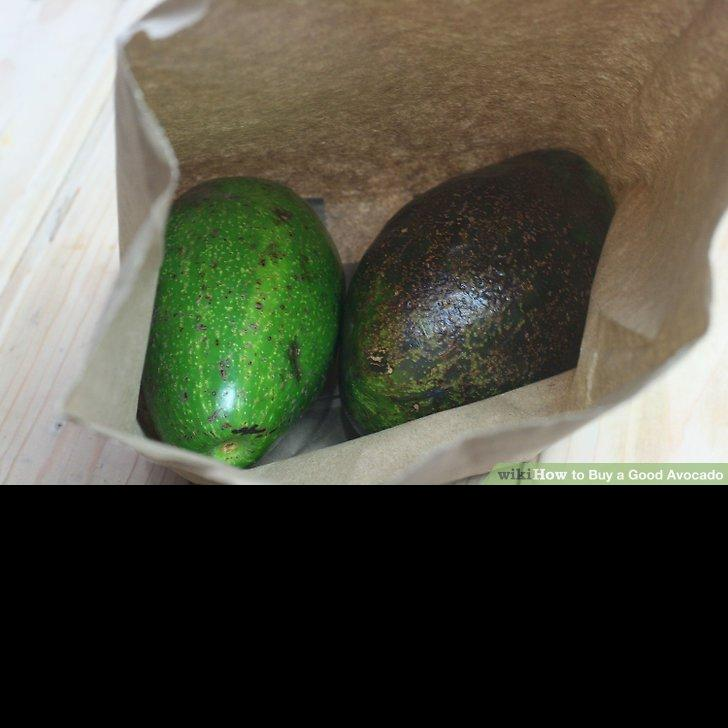almost: (340, 148, 616, 440)
unripe: (142, 176, 343, 469)
